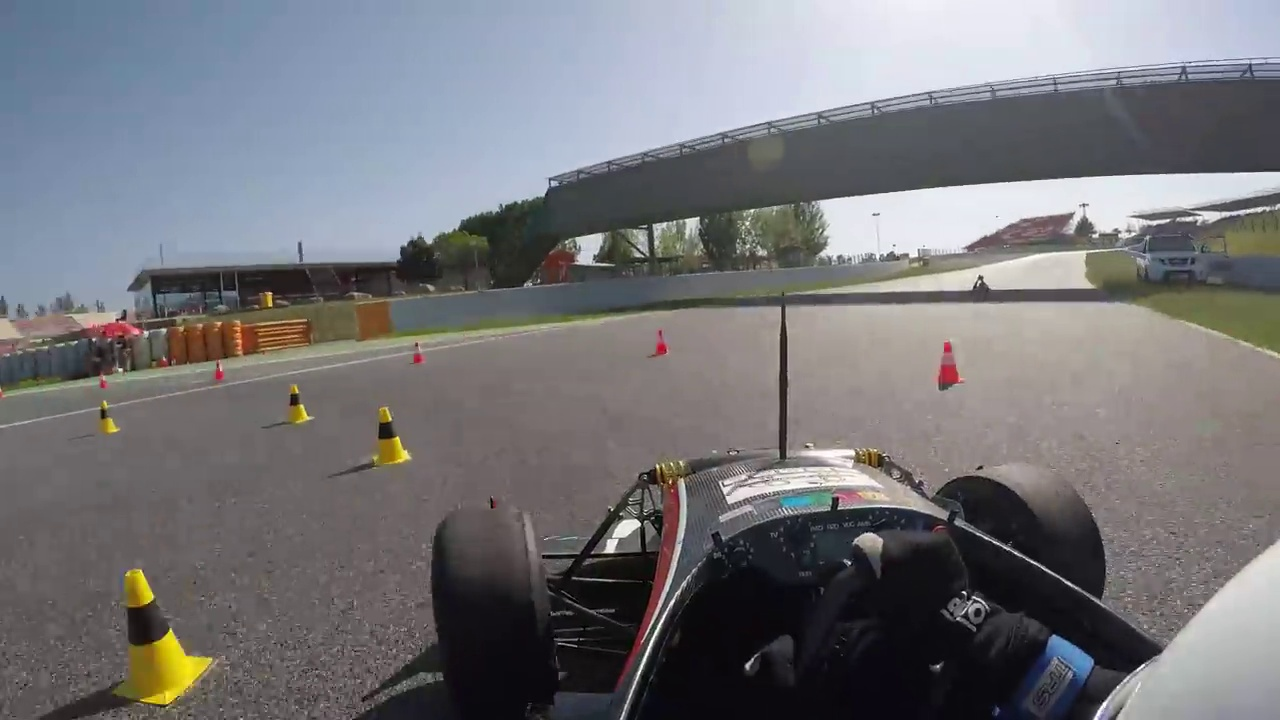Cone: (113, 570, 209, 708), (372, 408, 413, 468), (936, 340, 965, 389), (91, 397, 123, 438), (284, 381, 312, 427)
